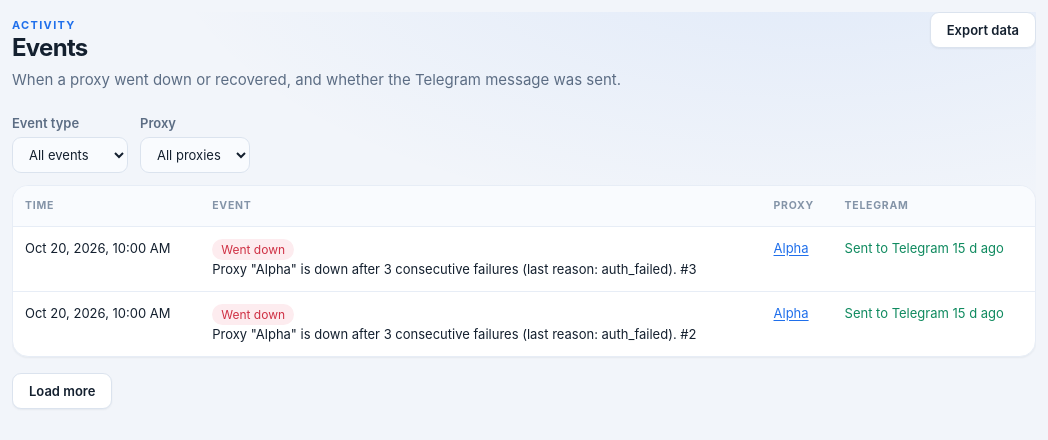
EventPage › loads older events on demand without duplicating any
Check: the table is shown, box [13,186,1035,356]
Step 1. Click the button "Load more" → (62, 391), box [12,373,112,409]
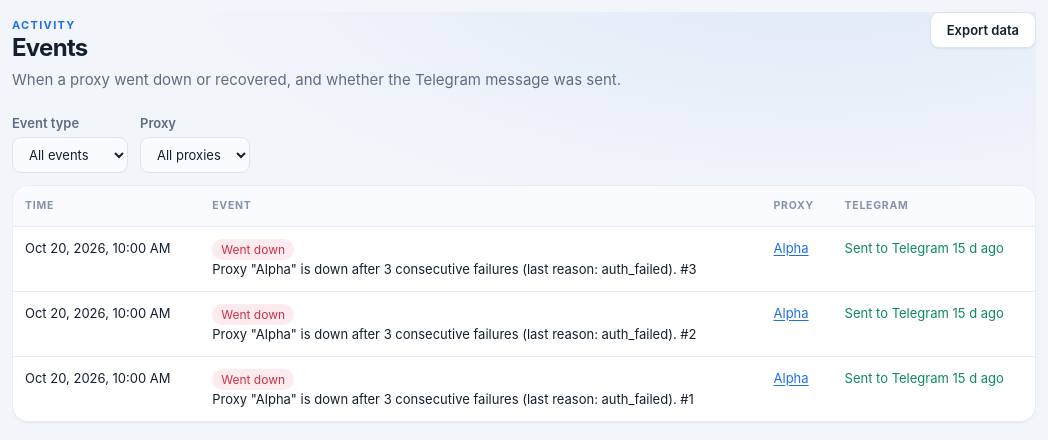
Check: the number of rows is 4, box [13,186,1035,226]; [13,226,1035,291]; [13,291,1035,356]; [13,356,1035,421]
Check: the button "Load more" is gone
